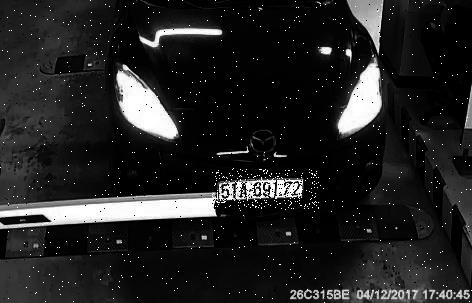License-plate: (214, 170, 321, 210)
